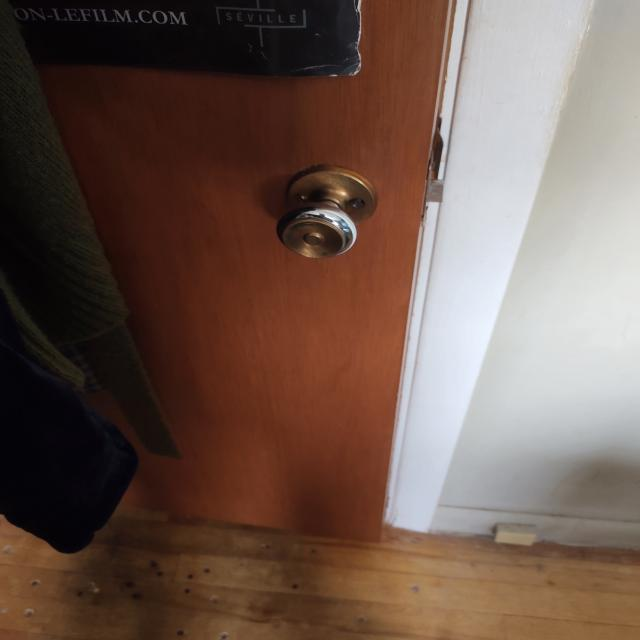door-knob: (277, 165, 378, 258)
